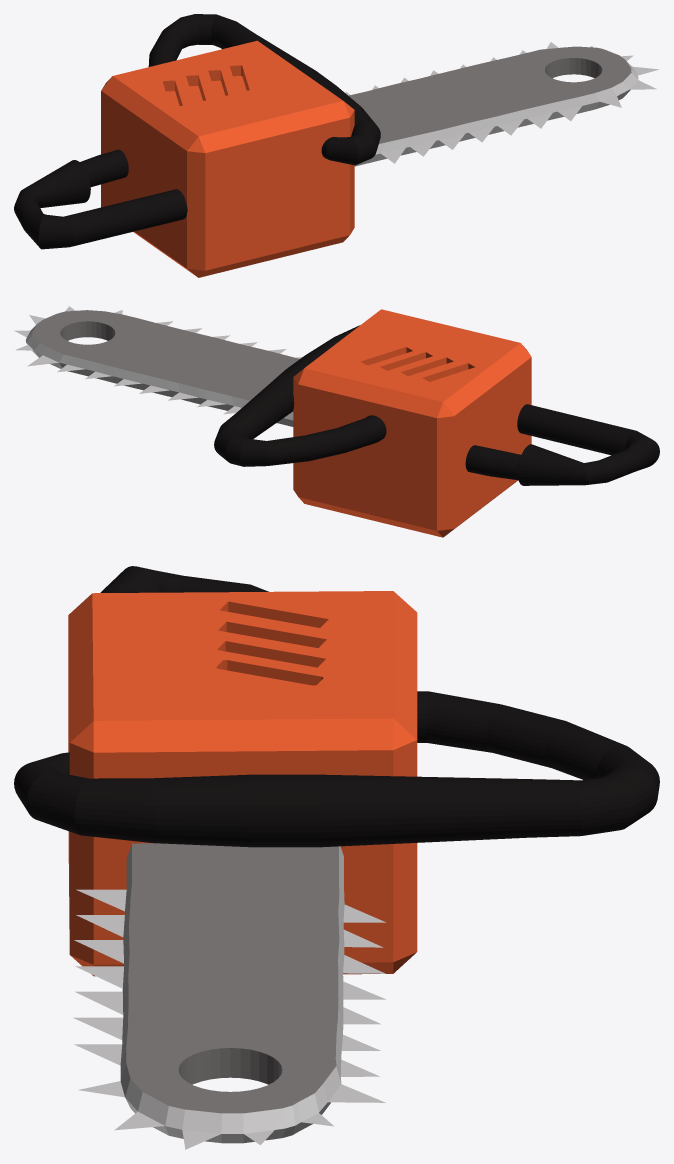
Rendered from Chainsaw.fbx.
The picture shows the model from 3 angles, top to bottom: view 1: azimuth 30°, elevation 25°; view 2: azimuth 150°, elevation 25°; view 3: azimuth 270°, elevation 25°; orthographic projection. The views are drawn at different scales.
Visible parts, largest first — view 1: Cube, Plane, Cylinder.001, Cylinder; view 2: Cube, Plane, Cylinder.001, Cylinder; view 3: Cube, Plane, Cylinder, Cylinder.001.
Part boxes in pixels (x1,y1,x2,y2): Cube: (101, 40, 354, 277); Plane: (345, 42, 659, 166); Cylinder.001: (14, 149, 187, 249); Cylinder: (148, 14, 380, 165); Cube: (293, 309, 531, 537); Plane: (14, 306, 302, 426); Cylinder.001: (465, 404, 659, 485); Cylinder: (214, 325, 386, 466); Cube: (68, 591, 417, 976); Plane: (73, 843, 386, 1149); Cylinder: (14, 691, 659, 847); Cylinder.001: (100, 566, 268, 592).
Size of the model in its own units: 446 by 94.27 by 216.
